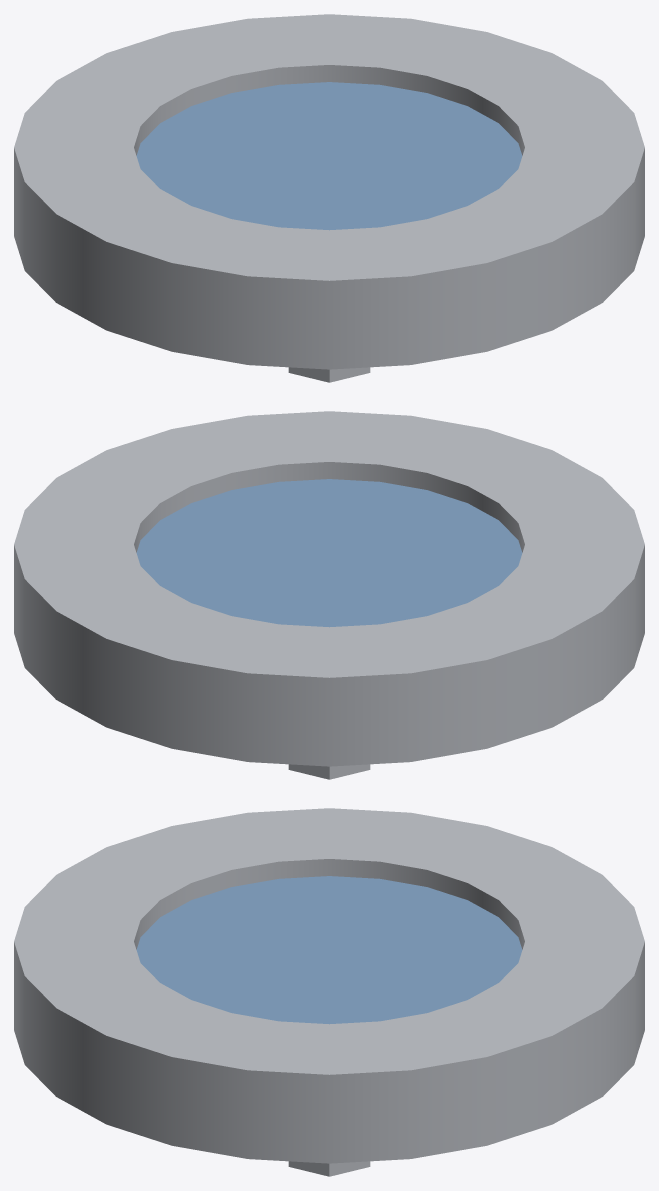
File: gale.glb
3 views of the same model, one above another, from view 1: azimuth 30°, elevation 25°; view 2: azimuth 150°, elevation 25°; view 3: azimuth 270°, elevation 25° (orthographic).
Visible parts, largest first — view 1: core_gale; view 2: core_gale; view 3: core_gale.
Part boxes in pixels (x1,y1,x2,y2): core_gale: (14,14,644,382); core_gale: (14,411,644,779); core_gale: (14,808,644,1176).
Size of the model in its own units: 20 by 5.1 by 20.
